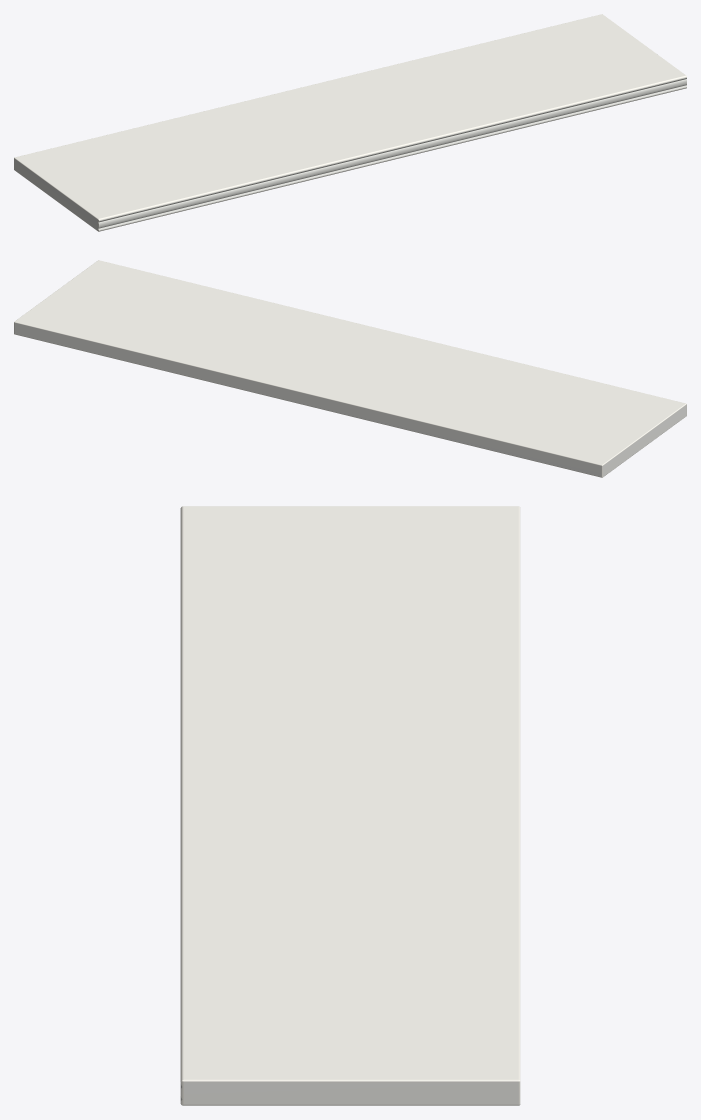
Rendered from 15 - BERGSHULT Shelf - white 120x30 cm.glb.
3 views of the same model, one above another, from view 1: azimuth 30°, elevation 25°; view 2: azimuth 150°, elevation 25°; view 3: azimuth 270°, elevation 25° (orthographic). The views are drawn at different scales.
Parts seen in each view (by area): view 1: Mesh_0; view 2: Mesh_0; view 3: Mesh_0.
Boxes of the visible parts, box(x1,y1,x2,y2) form: Mesh_0: box(14, 14, 686, 231); Mesh_0: box(14, 260, 686, 477); Mesh_0: box(180, 506, 520, 1105).
Bounding box in the file's own units: 1.2 × 0.025 × 0.3.
Materials: 1 (1 with a texture image).
